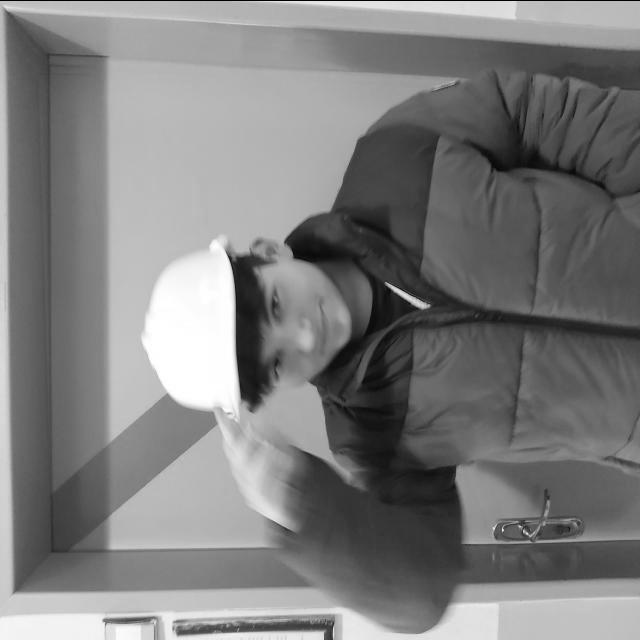construction helmet: (144, 233, 244, 418)
